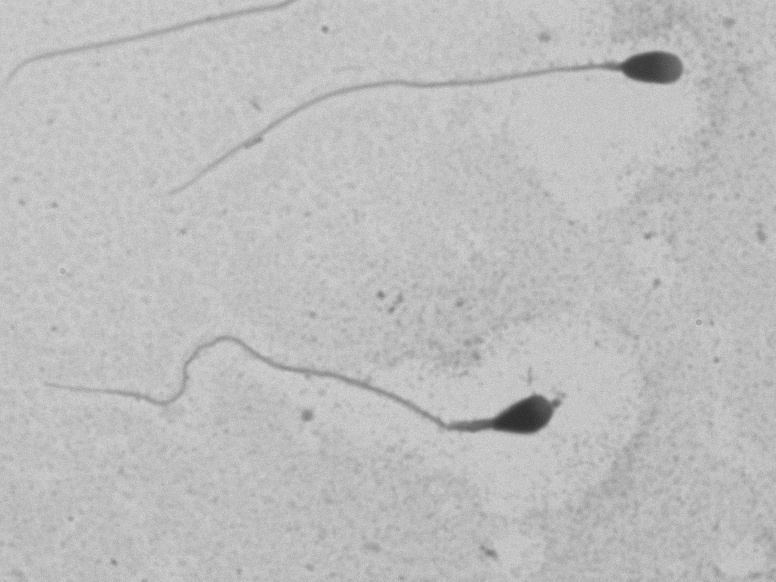Abnormal: (26, 293, 577, 510)
Normal: (156, 36, 705, 213)
